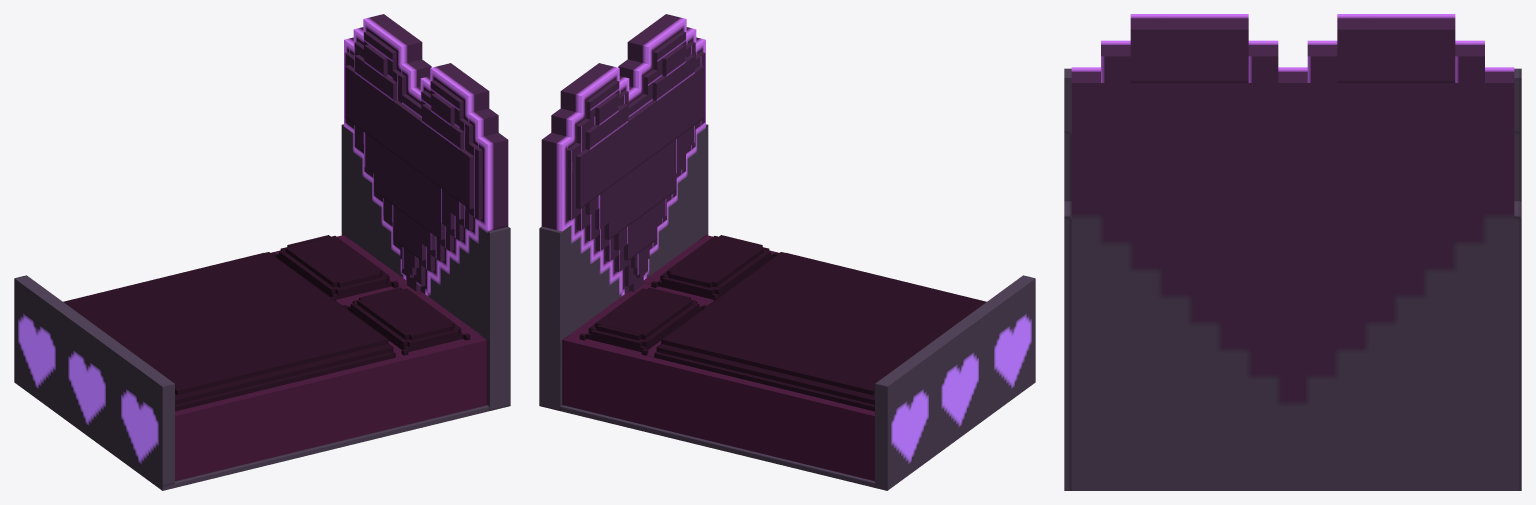
The model's file is lozko serce.dae.
3 views of the same model, side by side, from view 1: azimuth 30°, elevation 25°; view 2: azimuth 150°, elevation 25°; view 3: azimuth 270°, elevation 25° (orthographic). The views are drawn at different scales.
Parts seen in each view (by area): view 1: Content; view 2: Content; view 3: Content.
Part boxes in pixels (box(x1,y1,x2,y2)): Content: box(14, 14, 510, 490); Content: box(539, 14, 1035, 490); Content: box(1064, 14, 1521, 490).
Size of the model in its own units: 84 by 69 by 62.
1 material, 1 textured.
